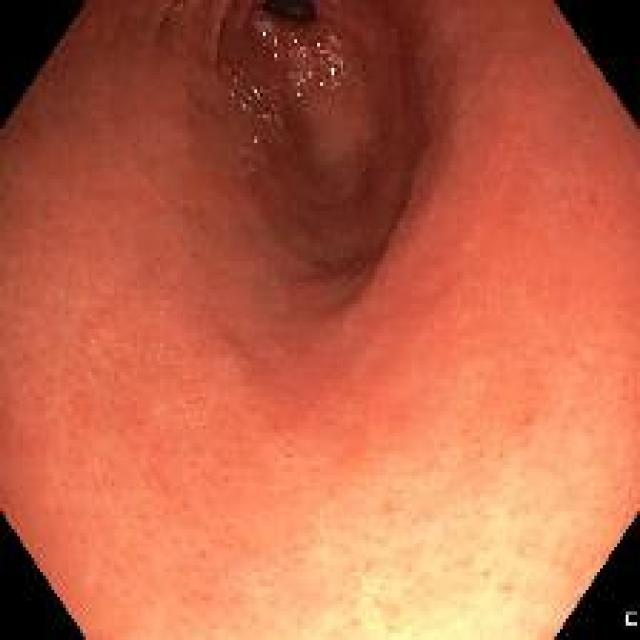bubbles: (286, 34, 317, 105), (238, 85, 267, 118), (268, 91, 288, 132), (321, 58, 344, 87)
saturation: (342, 495, 591, 639)
specularity: (314, 35, 347, 89), (236, 83, 266, 115), (290, 69, 307, 101), (290, 33, 309, 59), (254, 18, 268, 40), (272, 35, 280, 65)
